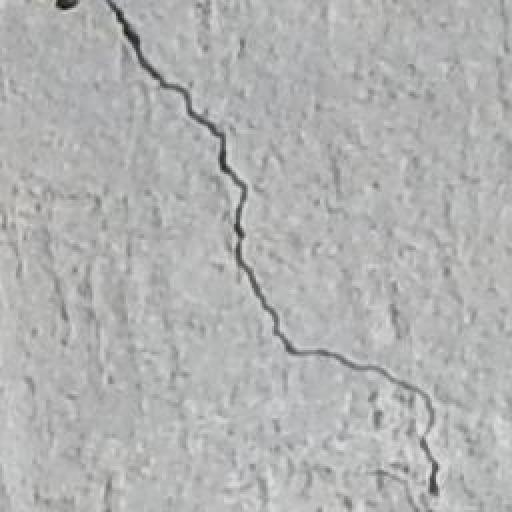spalling: (54, 5, 455, 511)
